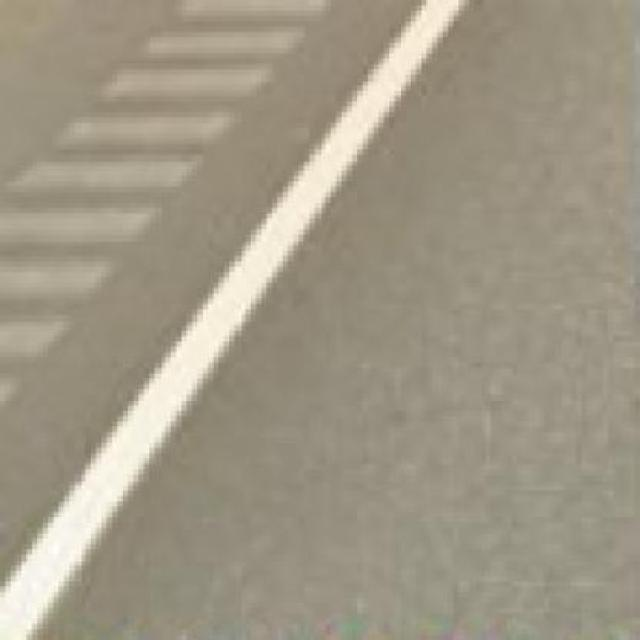crosswalk: (5, 2, 332, 409)
